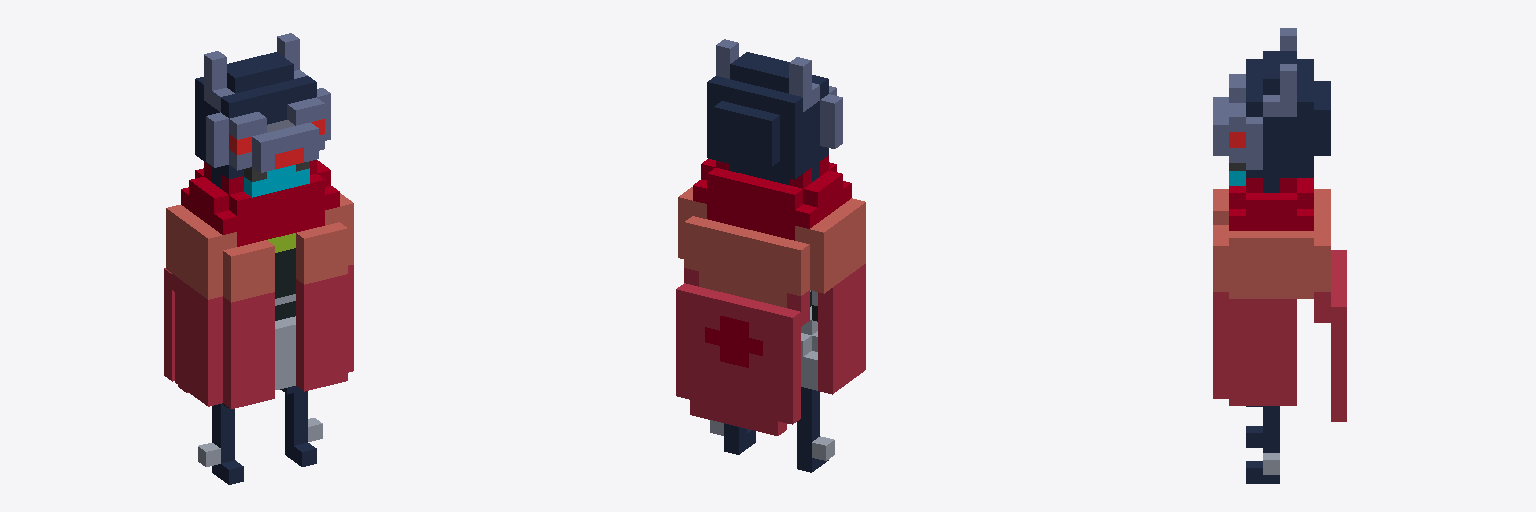
3 views of the same model, side by side, from view 1: azimuth 30°, elevation 25°; view 2: azimuth 150°, elevation 25°; view 3: azimuth 270°, elevation 25° (orthographic).
Size of the model in its own units: 10 by 27 by 8.
1 materials, 1 textured.